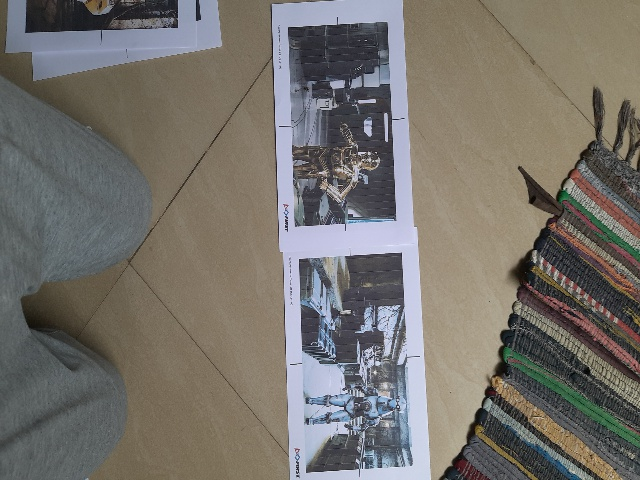fpt1: (286, 254, 416, 474)
rpt1: (280, 12, 418, 228)
